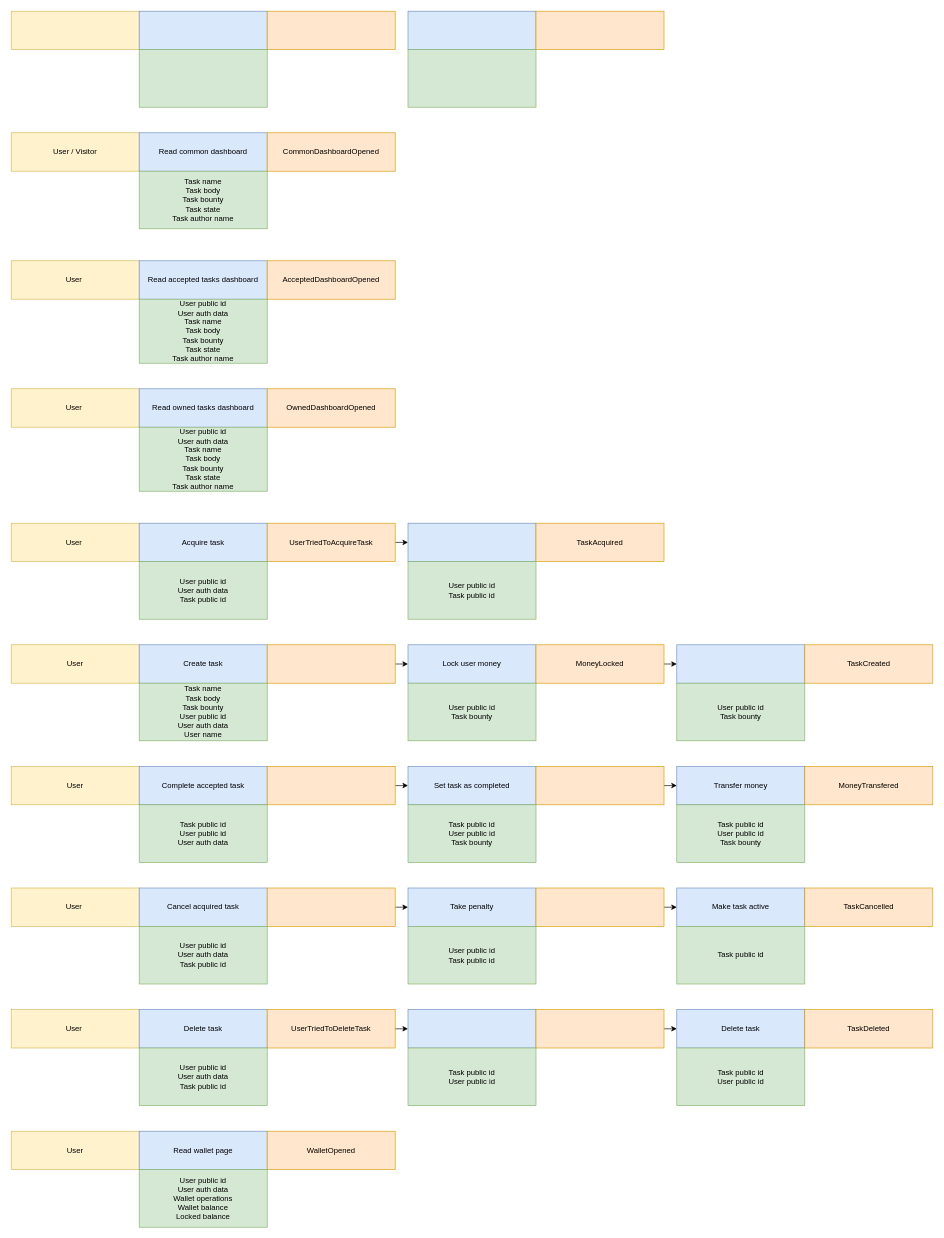
This 944x1238 diagram has some shape labels left out. Each missing label, with the centre of its shape:
"Add task to database" goes at point (740, 663).
"MoneyPenalized" goes at point (599, 906).
"MoneyUnlocked" goes at point (599, 1028).
"Set task to user" goes at point (471, 542).
"TaskCompleted" goes at point (599, 785).
"Unlock money" goes at point (471, 1028).
"UserTriedToCancelTask" goes at point (331, 906).
"UserTriedToCompleteTask" goes at point (331, 785).
"UserTriedToCreateTask" goes at point (331, 663).
